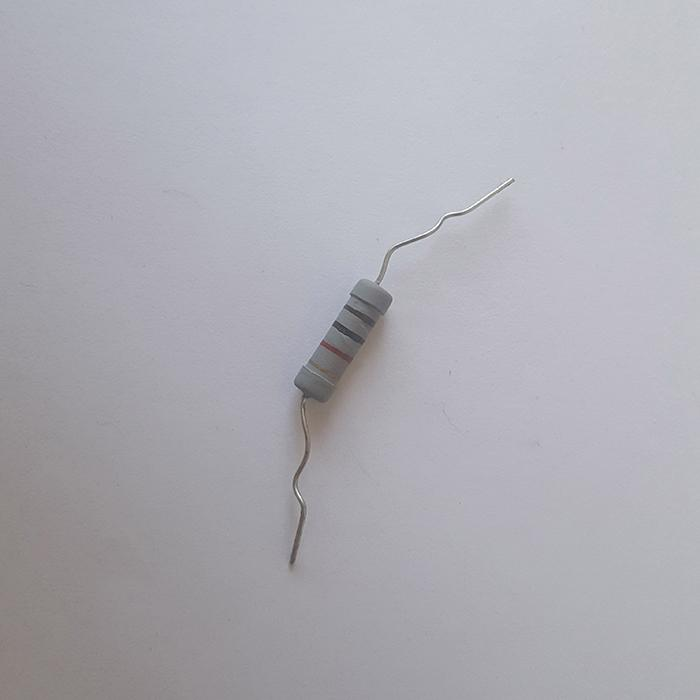resistor: (293, 277, 392, 404)
